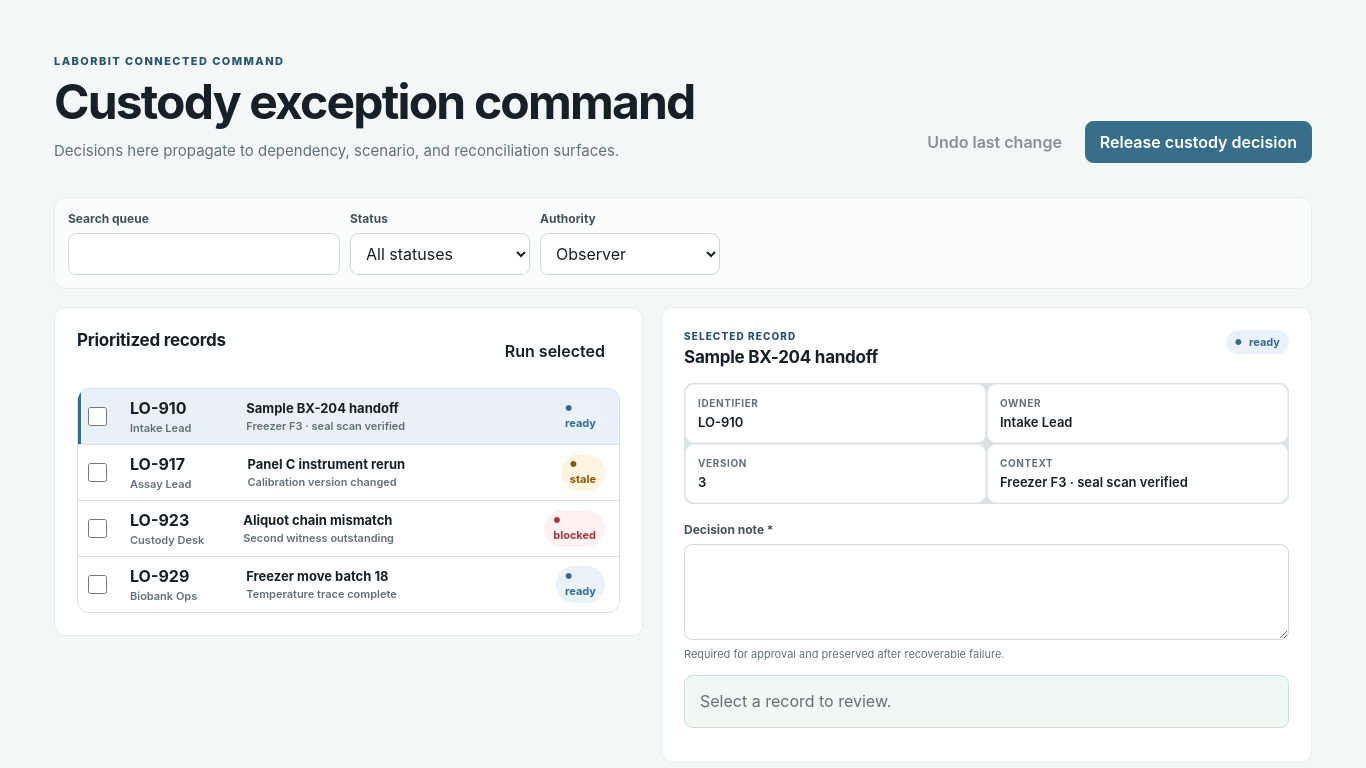
Test: Custody exception command › filters the queue and offers recovery from an empty result
Type "not-present" into the field labelled "Search queue" at (204, 254), box top-left (68, 233), bottom-right (340, 275)
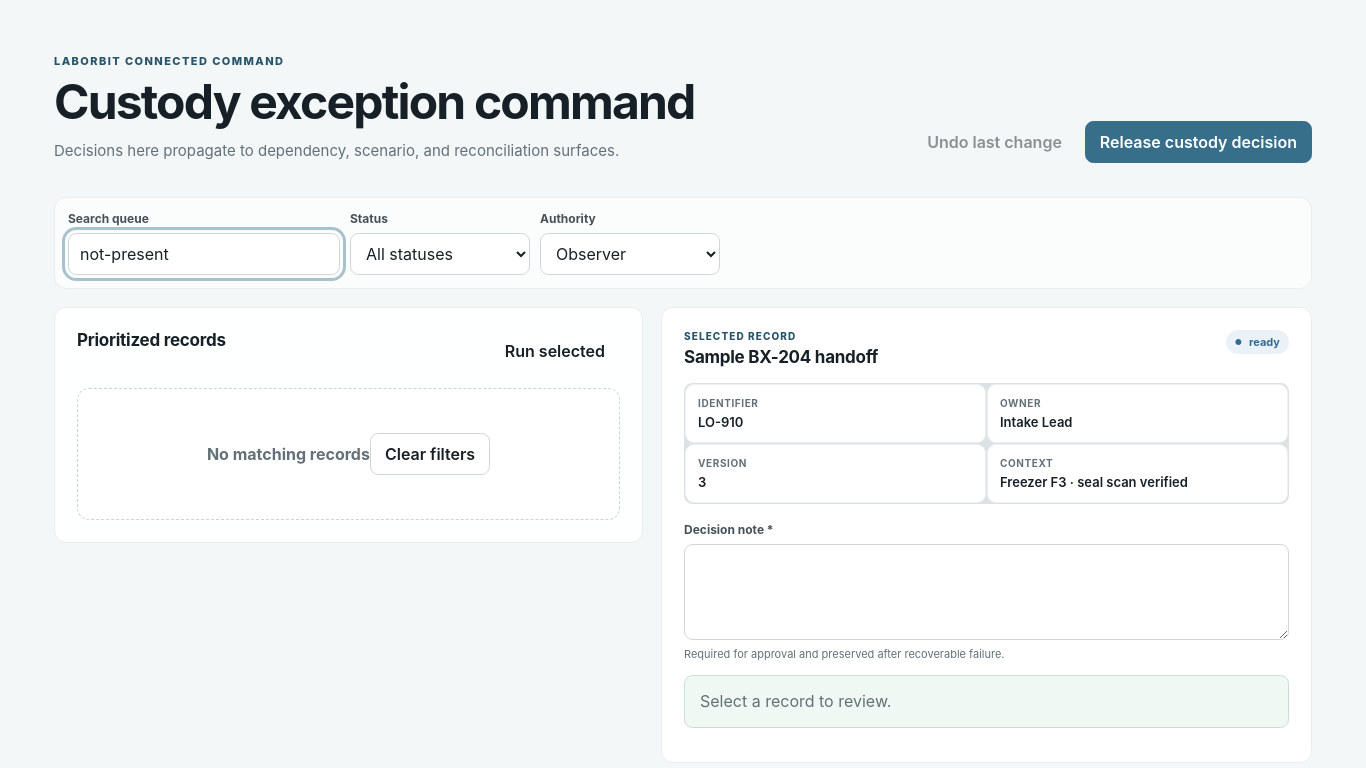
Now the text "No matching records" is shown, box top-left (207, 444), bottom-right (370, 464)
Click the button "Clear filters" at (430, 454), box top-left (370, 433), bottom-right (490, 475)
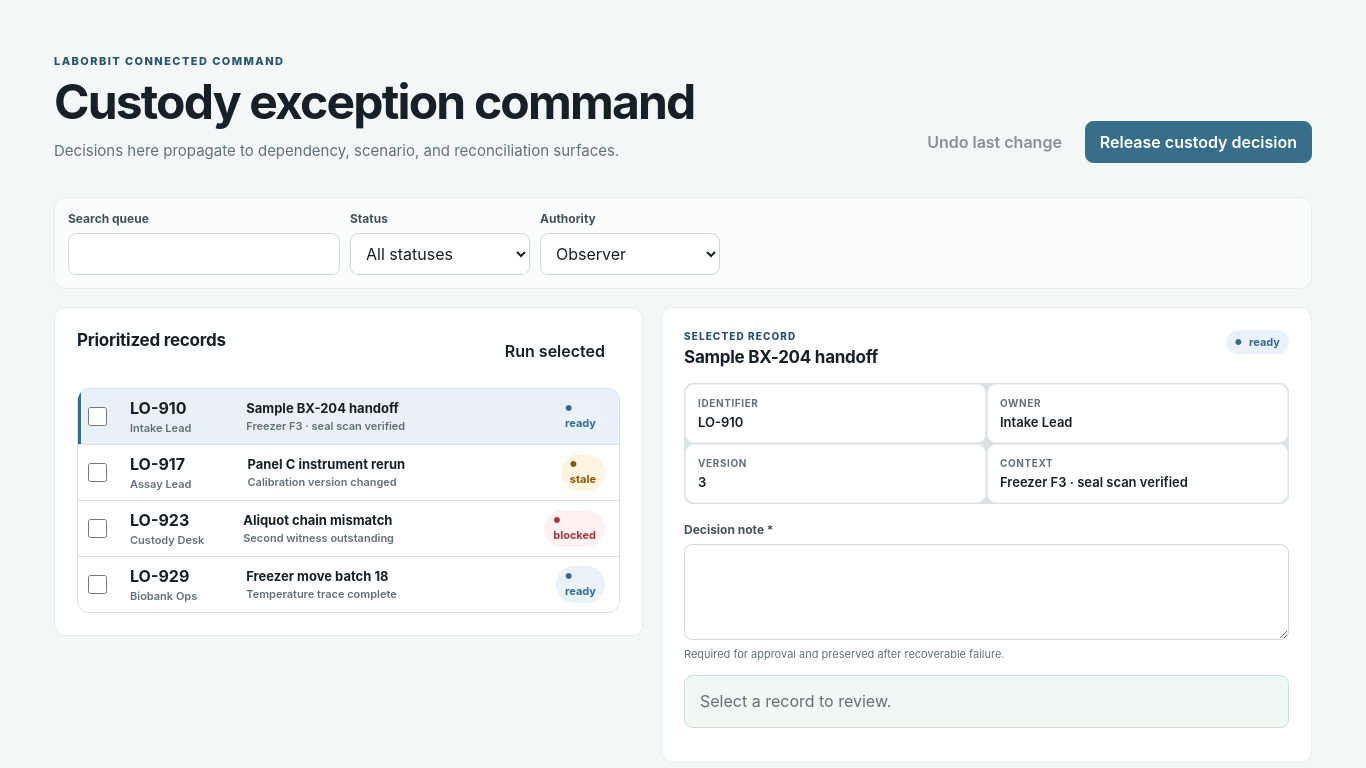
Now the text "Sample BX-204 handoff" is shown 2 times, box top-left (246, 400), bottom-right (399, 416); top-left (684, 347), bottom-right (878, 367)
